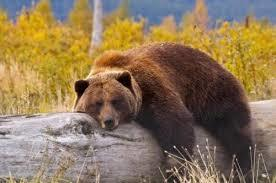bear: (73, 40, 259, 182)
